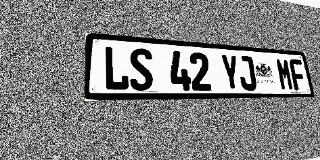2: (189, 52, 211, 90)
4: (169, 51, 192, 91)
F: (289, 59, 307, 90)
J: (237, 55, 257, 90)
L: (104, 46, 129, 91)
M: (275, 58, 294, 90)
S: (129, 48, 154, 91)
Y: (220, 54, 241, 90)
